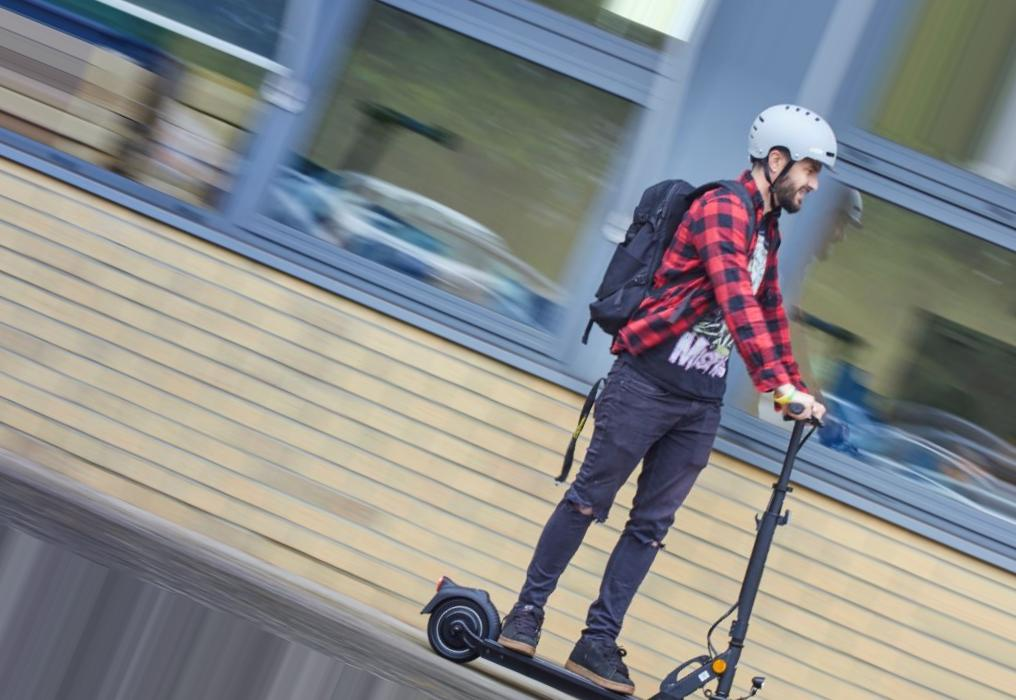scooter: (420, 400, 829, 700)
with helmet: (749, 104, 837, 214)
